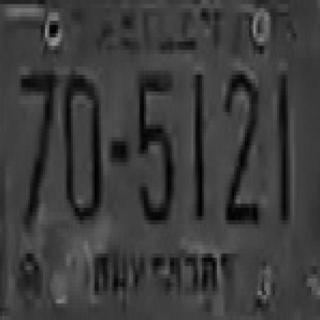N00: (62, 69, 101, 218)
N01: (275, 73, 288, 218), (191, 71, 202, 216)
N02: (223, 67, 258, 220)
N05: (136, 67, 173, 220)
N07: (19, 64, 56, 222)
P58: (82, 239, 244, 309)
